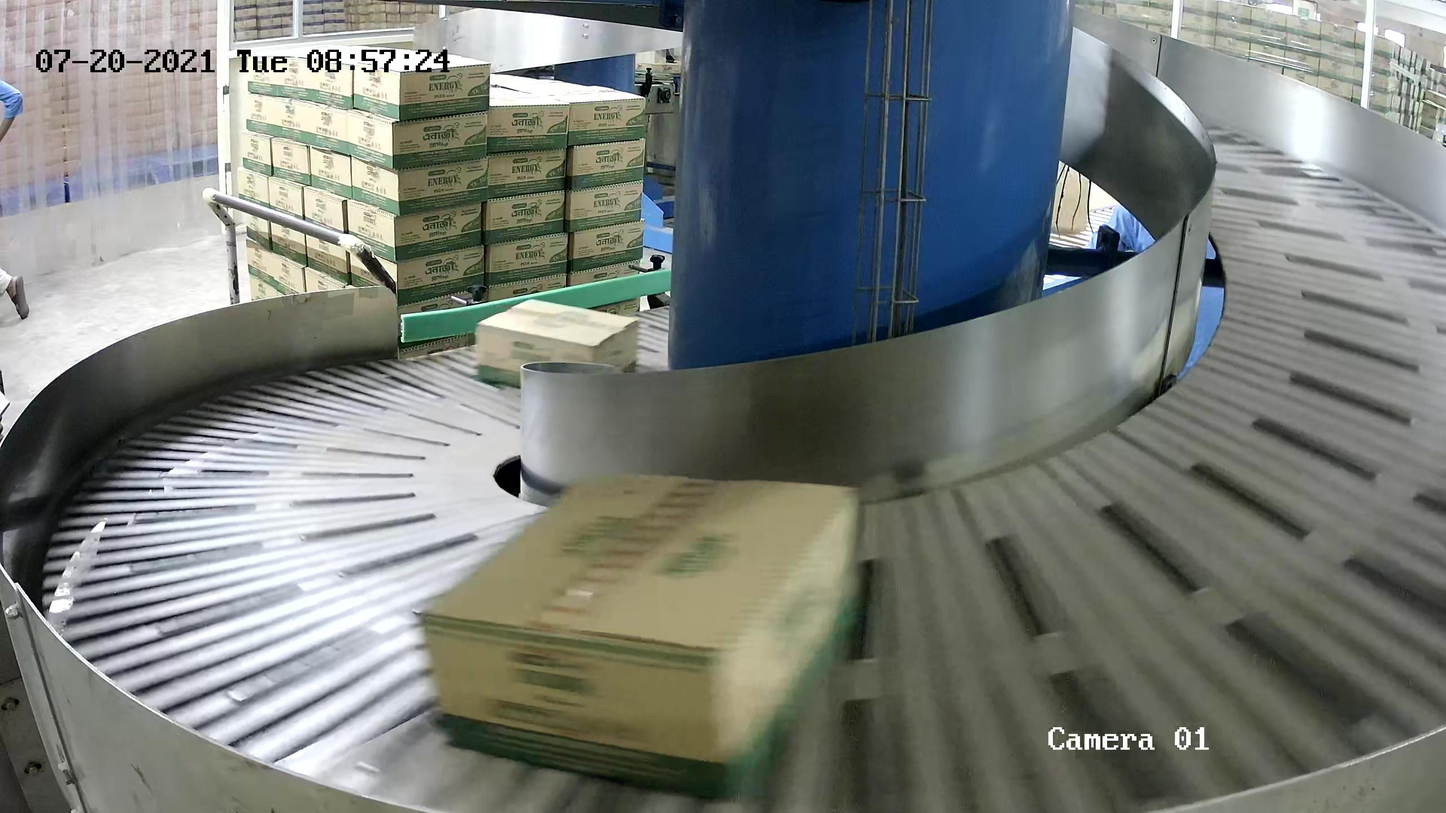Box: (412, 468, 861, 799), (474, 298, 640, 388)
